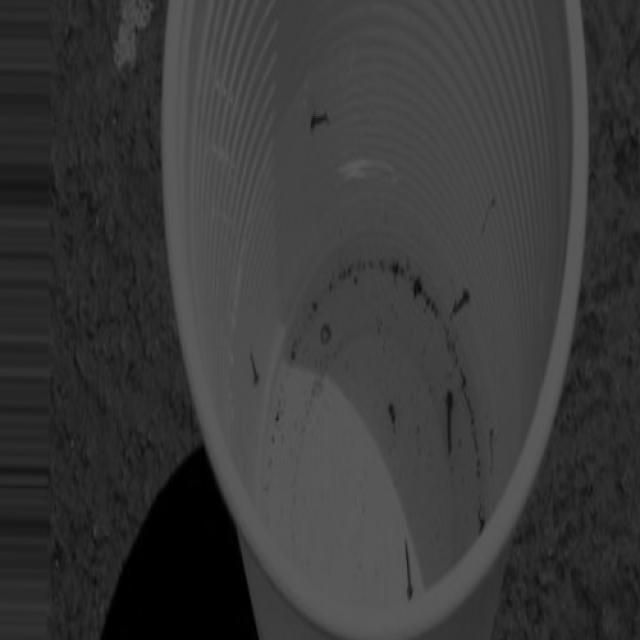larvas: (401, 536, 414, 598), (447, 288, 468, 321), (444, 390, 453, 450), (250, 346, 261, 386), (482, 198, 494, 229), (309, 115, 332, 131), (488, 423, 495, 473), (411, 274, 424, 296), (319, 327, 332, 345)
